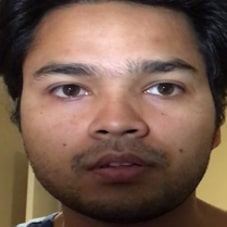awake: (25, 46, 210, 199)
